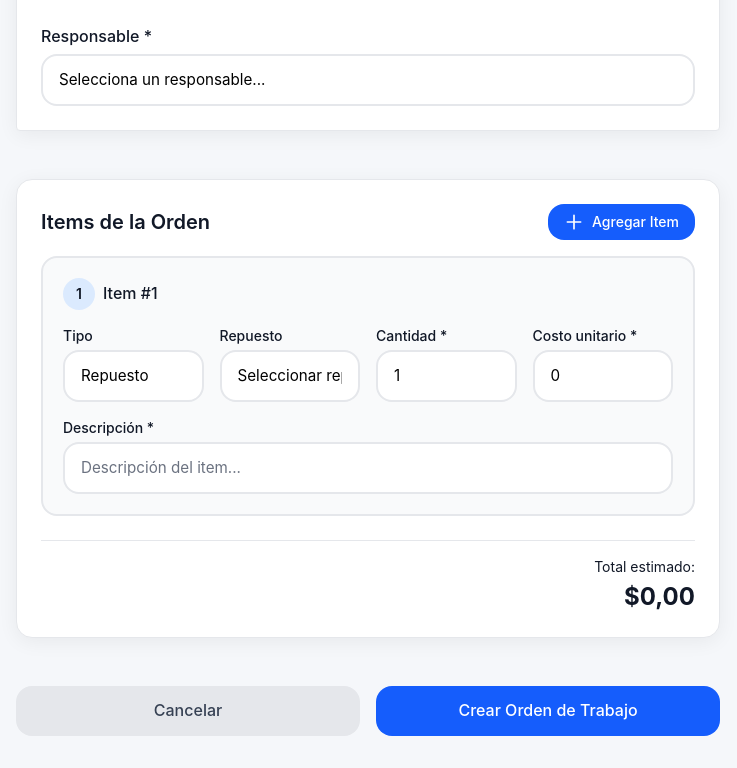
it: CreateWorkOrder › debe validar campos obligatorios
(page scrolled)
Click the button "Crear Orden de Trabajo".
click(548, 711)  # box [376,686,720,736]
(page scrolled)
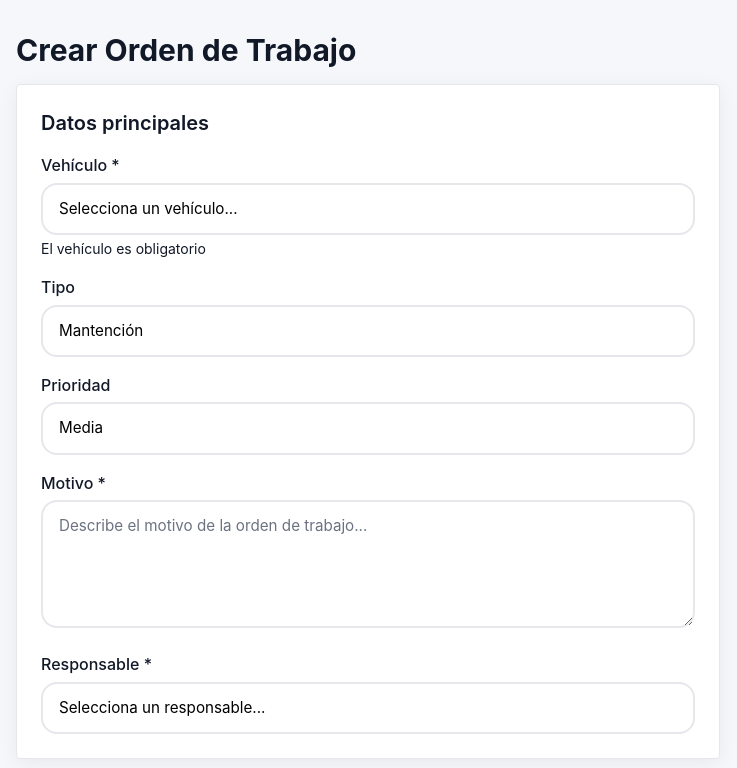
Now the text "El vehículo es obligatorio" is shown, box [41,240,206,257]
